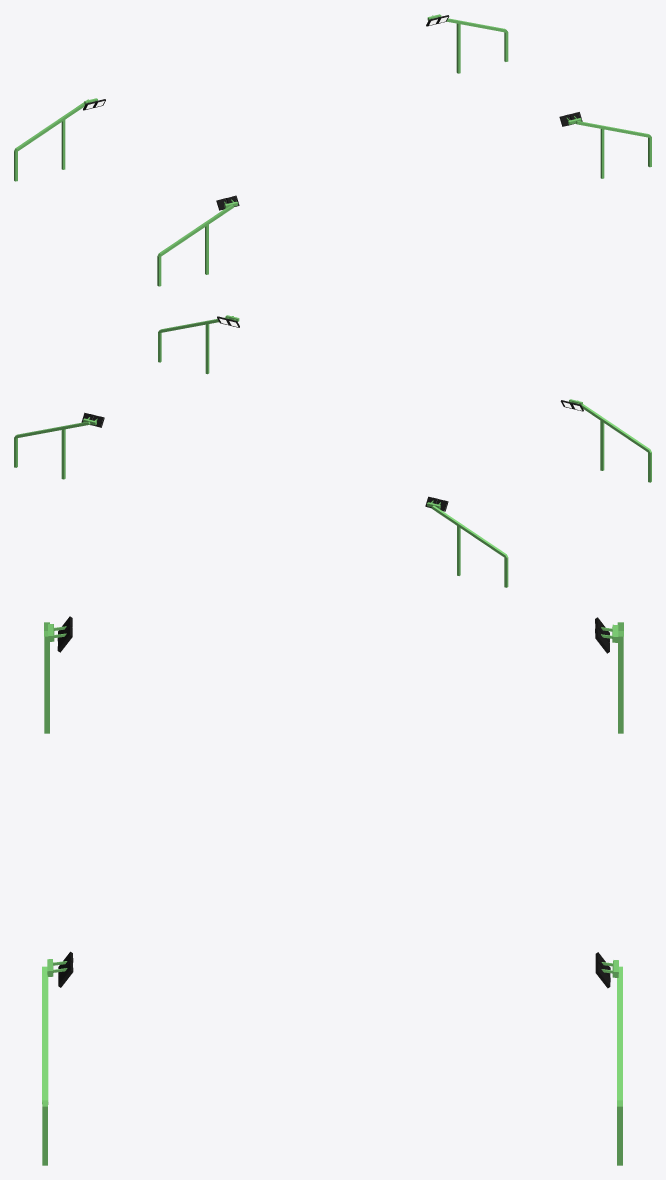
File: padel_4.glb
3 views of the same model, one above another, from view 1: azimuth 30°, elevation 25°; view 2: azimuth 150°, elevation 25°; view 3: azimuth 270°, elevation 25° (orthographic). The views are drawn at different scales.
Parts seen in each view (by area): view 1: padel_5; view 2: padel_5; view 3: padel_5.
Part boxes in pixels (left/top/right/bottom): padel_5: left=14, top=14, right=651, bottom=286; padel_5: left=14, top=315, right=651, bottom=587; padel_5: left=42, top=616, right=623, bottom=1165.
Bounding box in the file's own units: 20.05 × 2.56 × 10.25.
